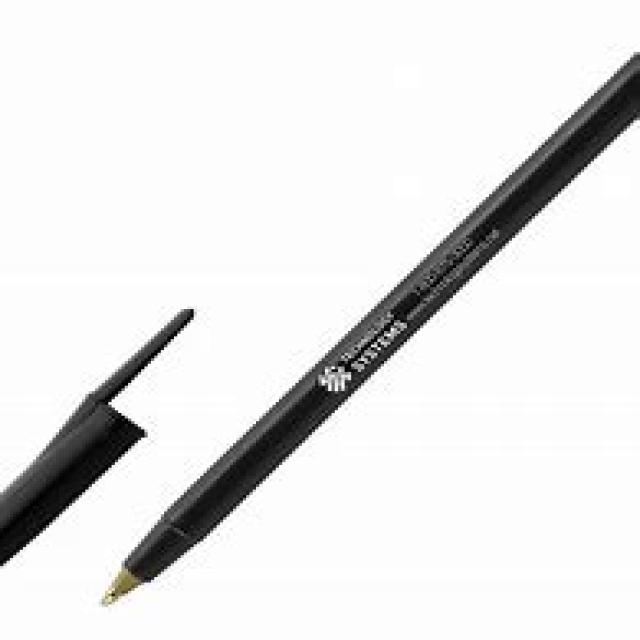pen: (96, 52, 640, 610)
